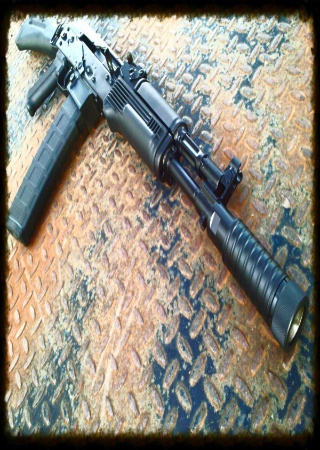rifle: (5, 6, 313, 352)
